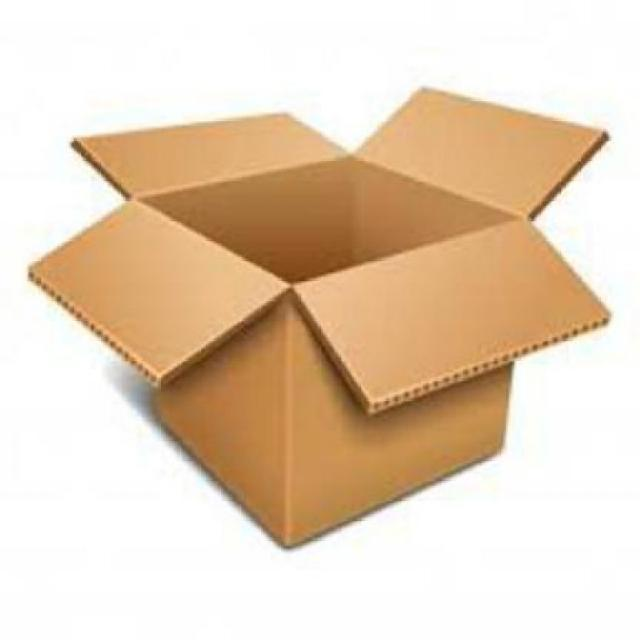box: (32, 83, 612, 550)
